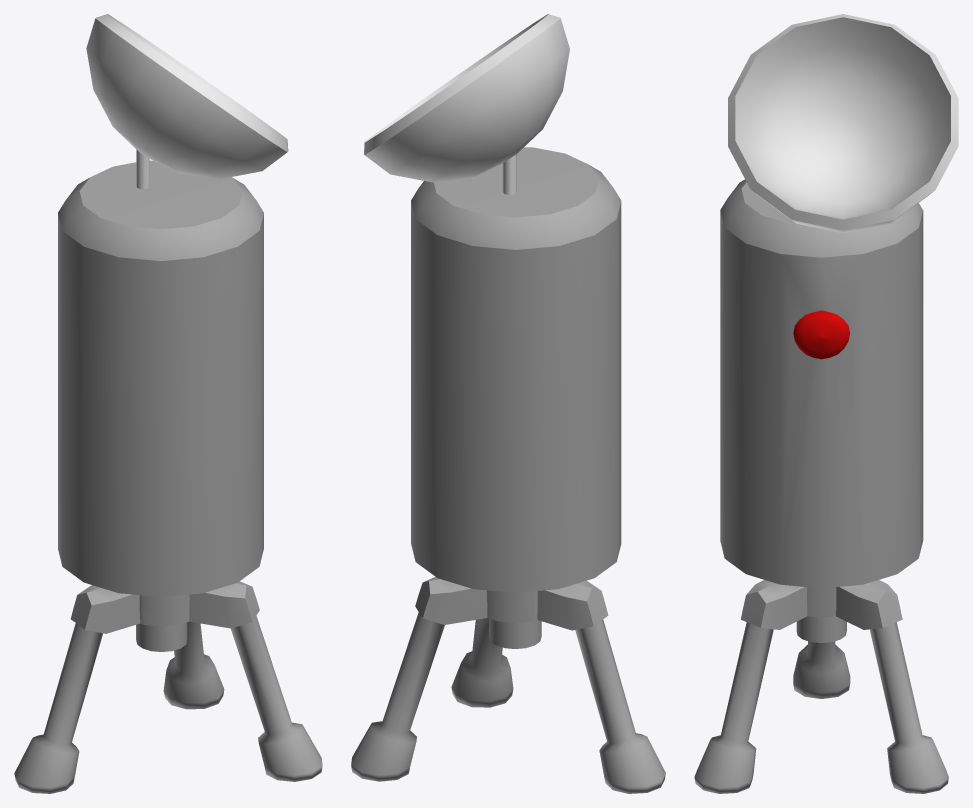
The model's file is sonaerspyke2.fbx.
3 renders of one model, left to right at view 1: azimuth 30°, elevation 25°; view 2: azimuth 150°, elevation 25°; view 3: azimuth 270°, elevation 25°, orthographic. The views are drawn at different scales.
Parts seen in each view (by area): view 1: polySurface27, polySurface24; view 2: polySurface27, polySurface24; view 3: polySurface27, polySurface24, lump.
Part boxes in pixels (<box>): polySurface27: <box>14,160,322,793</box>; polySurface24: <box>86,14,288,188</box>; polySurface27: <box>351,147,665,793</box>; polySurface24: <box>364,14,569,194</box>; polySurface27: <box>694,179,948,793</box>; polySurface24: <box>728,14,958,233</box>; lump: <box>793,310,849,359</box>.
Bounding box in the file's own units: 10.54 × 27.76 × 9.3.
